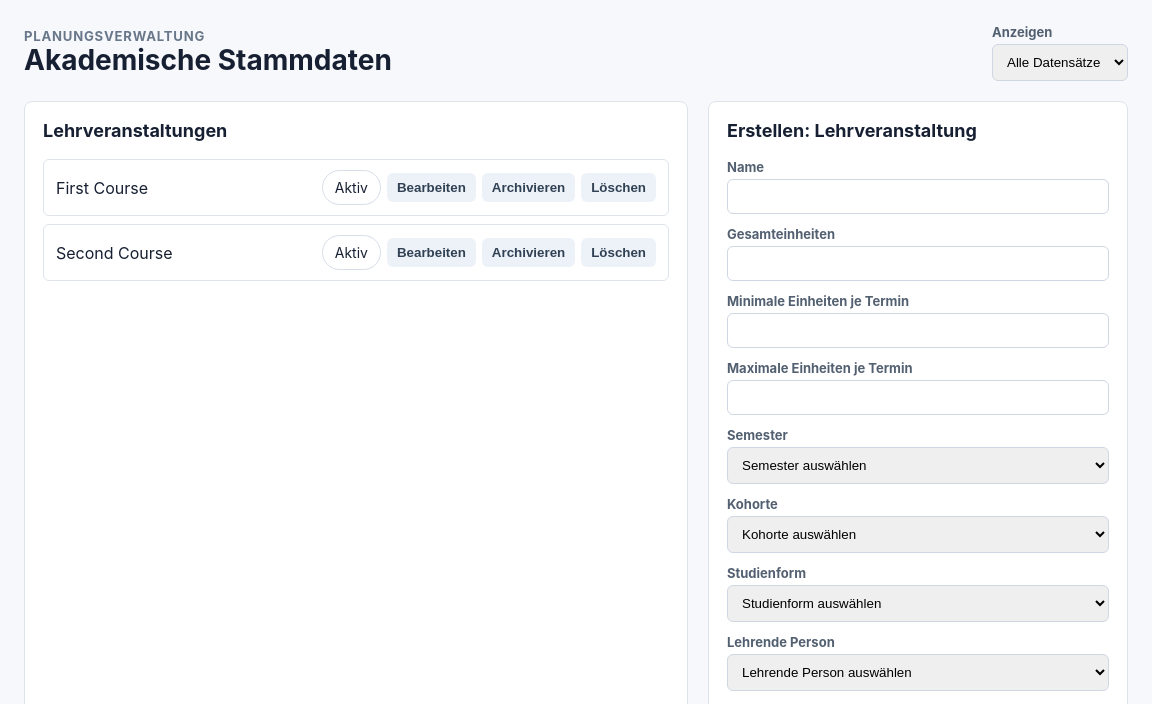
Test case: AcademicDataPage › never renders or saves eligibility from a previously selected Course after refresh failure
The width and height of the screenshot is (1152, 704).
Click the button "Bearbeiten" in the row of "First Course" at (431, 188), box [387,173,476,202]
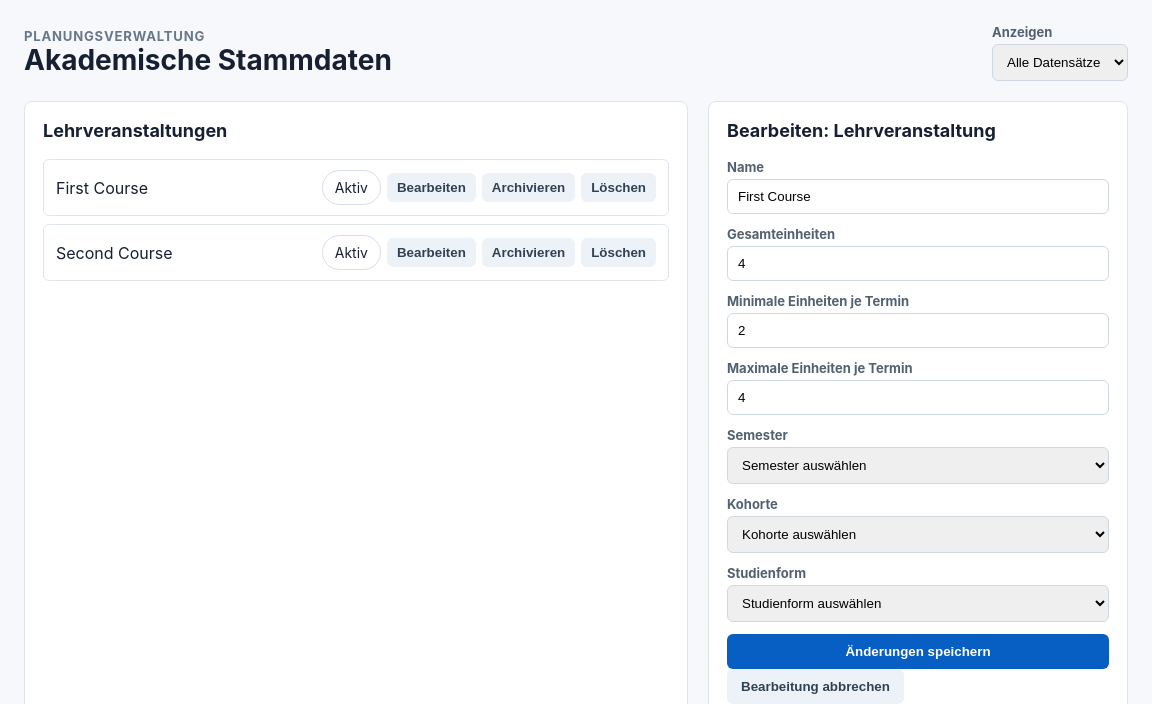
Click the button "Bearbeiten" in the row of "Second Course" at (431, 252), box [387,238,476,267]
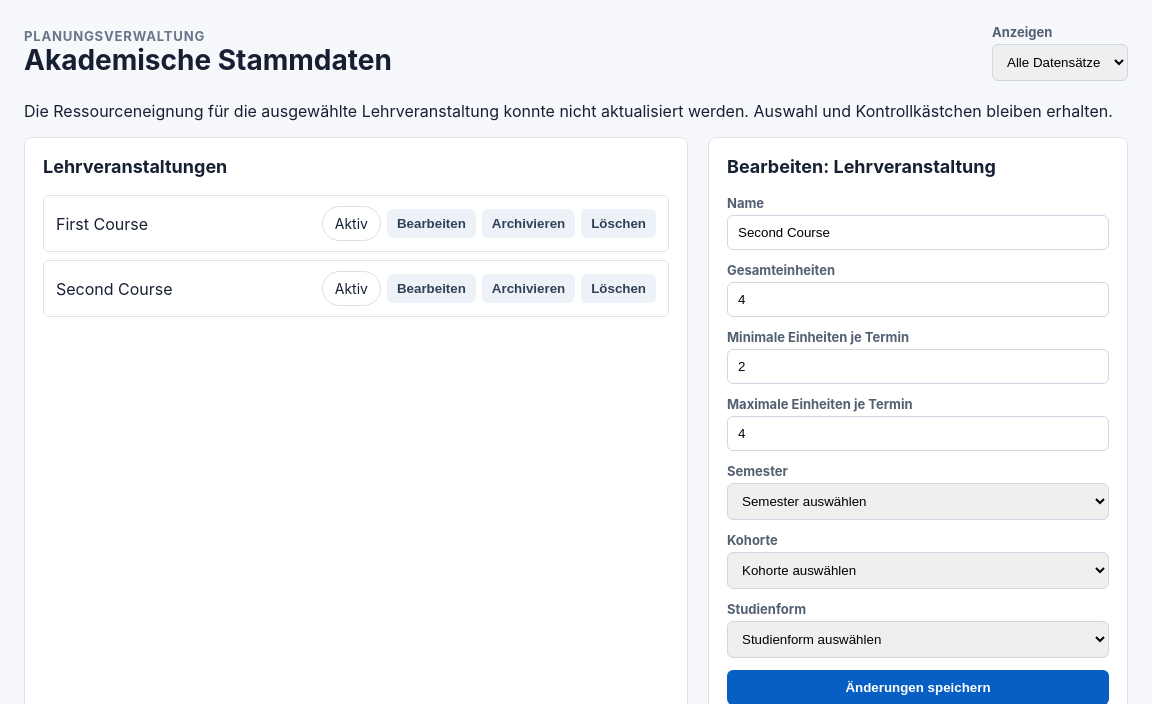
Now the text "Ressourceneignung für die ausgewählte Lehrveranstaltung konnte nicht aktualisiert werden" is shown, box [24,101,1113,121]
